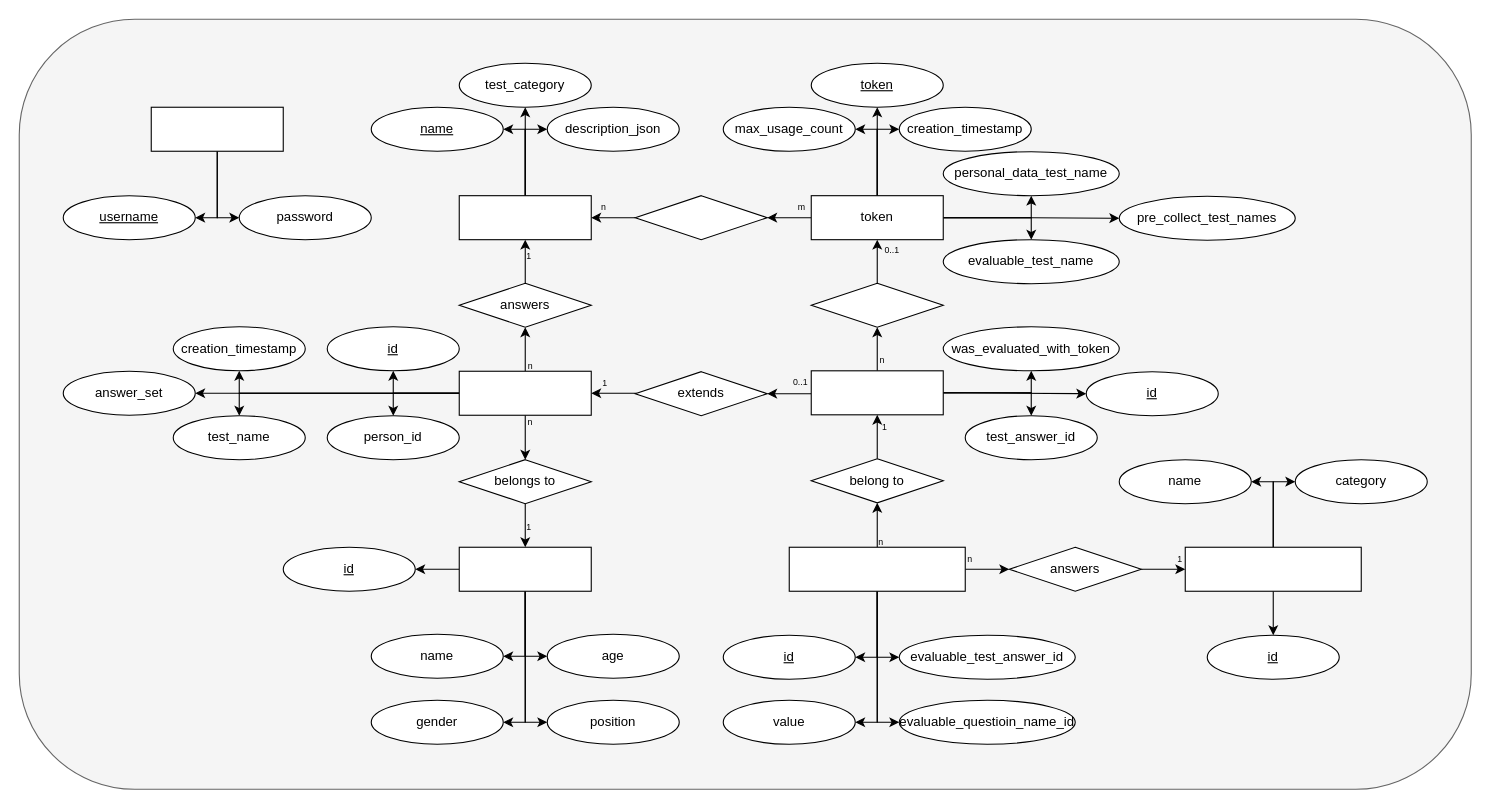
Some shapes in this 1491 by 809 pixel diagram are drawn without their labels. The centre of each missing label's shape, as x and y in pixels:
evaluable_question_answer: (876,568)
evaluable_question_name: (1272,568)
evaluable_test_answer: (876,392)
evaluated with: (876,304)
grants access to: (700,217)
person: (524,568)
test: (524,217)
test_answer: (524,392)
user: (216,128)
